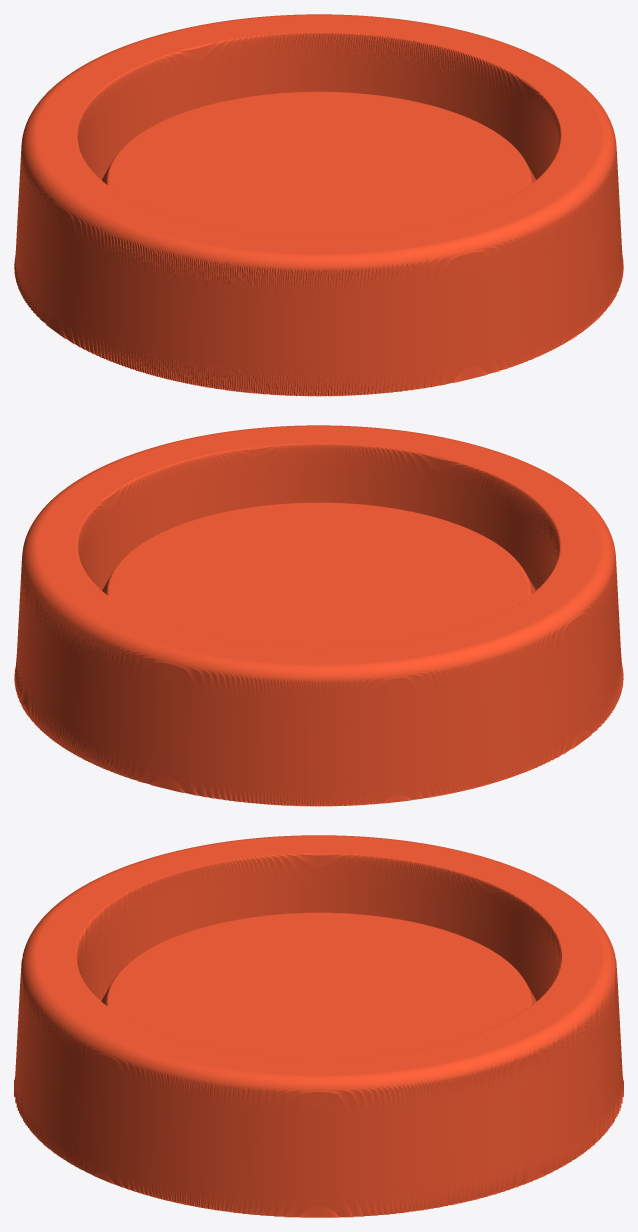
The model's file is mold.glb.
3 renders of one model, top to bottom at view 1: azimuth 30°, elevation 25°; view 2: azimuth 150°, elevation 25°; view 3: azimuth 270°, elevation 25°, orthographic.
Visible parts, largest first — view 1: geometry_0; view 2: geometry_0; view 3: geometry_0.
Part boxes in pixels (x1,y1,x2,y2): geometry_0: [14, 14, 623, 396]; geometry_0: [14, 425, 623, 806]; geometry_0: [14, 835, 623, 1217].
Bounding box in the file's own units: 0.0964 × 0.0232 × 0.0964.
